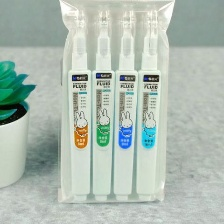correction_fluid: (110, 7, 141, 202), (65, 3, 94, 201), (133, 5, 162, 202), (89, 2, 117, 202)
